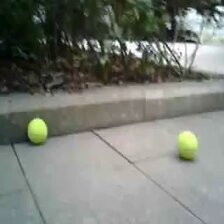tennis: (176, 132, 199, 156), (29, 118, 50, 144)
